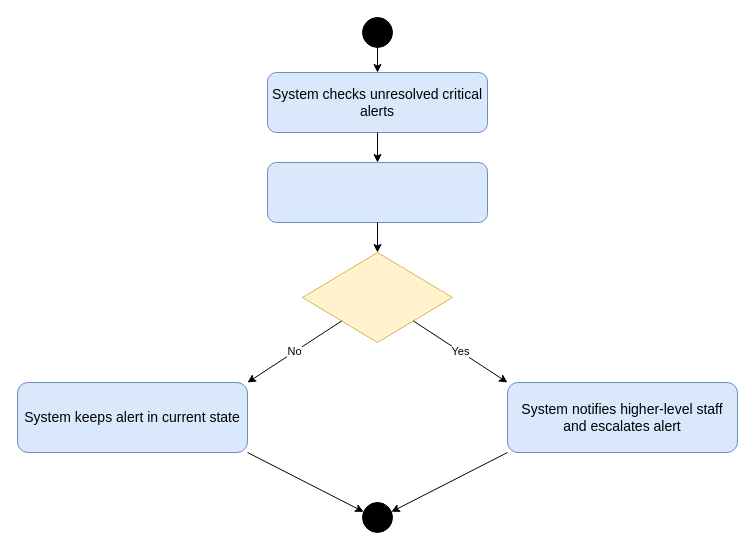
Some shapes in this 755 by 550 pixel diagram are drawn without their labels. The shapes that lost their labels are listed below. From the top down, each one's centre as x and y in pixels, then its label:
At (377,192): "System compares alert age with escalation rule".
At (377,297): "Escalation threshold reached?".
